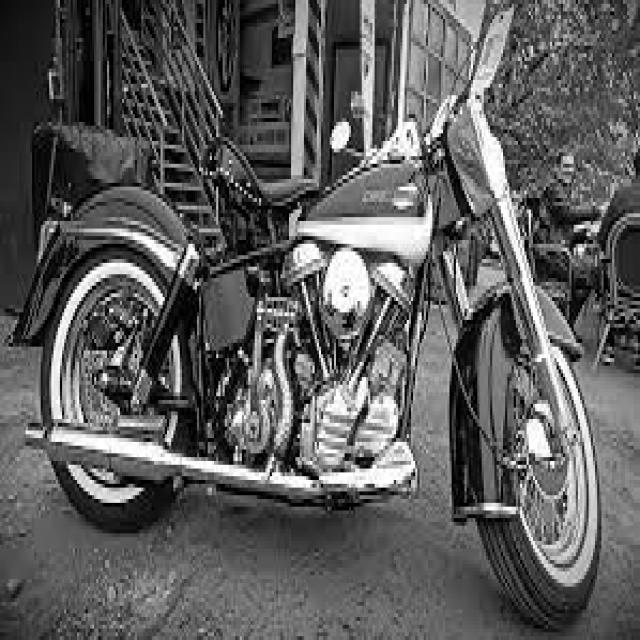Bike: (30, 57, 605, 627)
